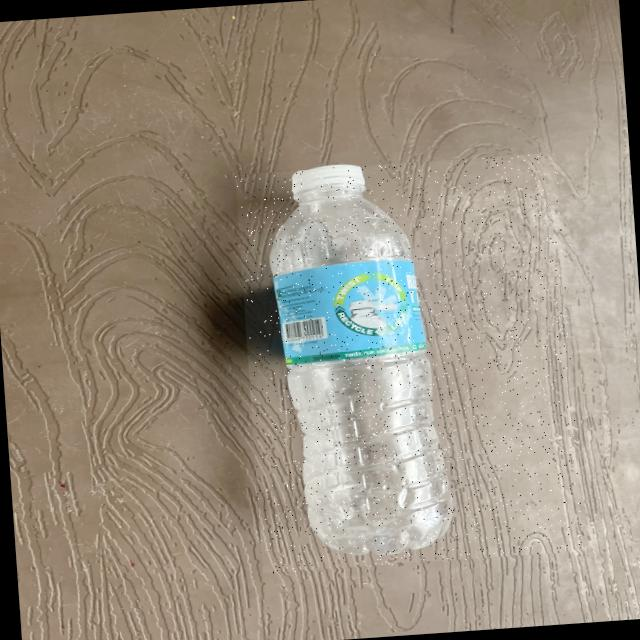REJECT: (235, 153, 584, 574)
